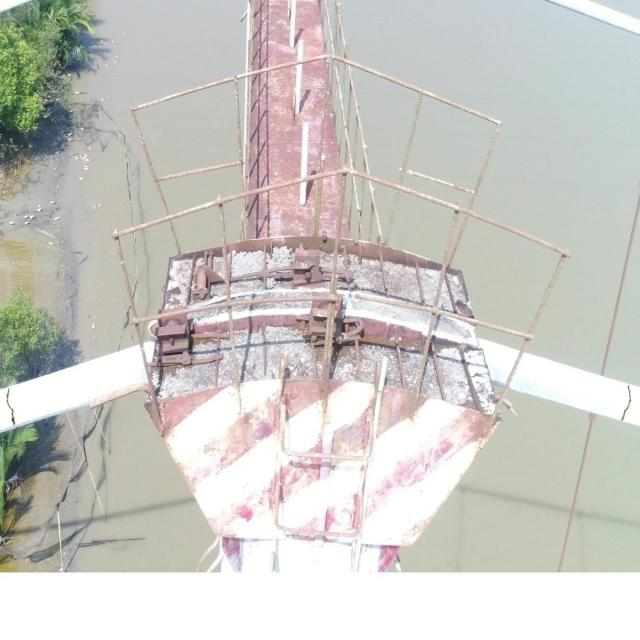crack: (620, 384, 632, 422), (6, 388, 16, 425)
